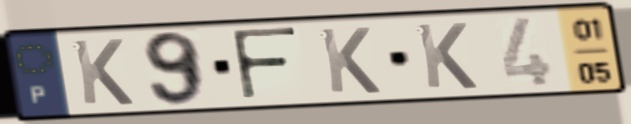4: (498, 14, 556, 90)
9: (138, 28, 207, 110)
F: (227, 25, 303, 104)
K: (315, 25, 384, 96), (412, 21, 481, 92), (68, 37, 137, 108)
